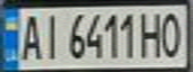1: (118, 9, 139, 58), (103, 10, 121, 60)
4: (84, 10, 106, 60)
6: (63, 10, 87, 60)
A: (15, 10, 45, 62)
H: (136, 8, 166, 59)
I: (39, 10, 63, 61)
O: (157, 8, 187, 59)
